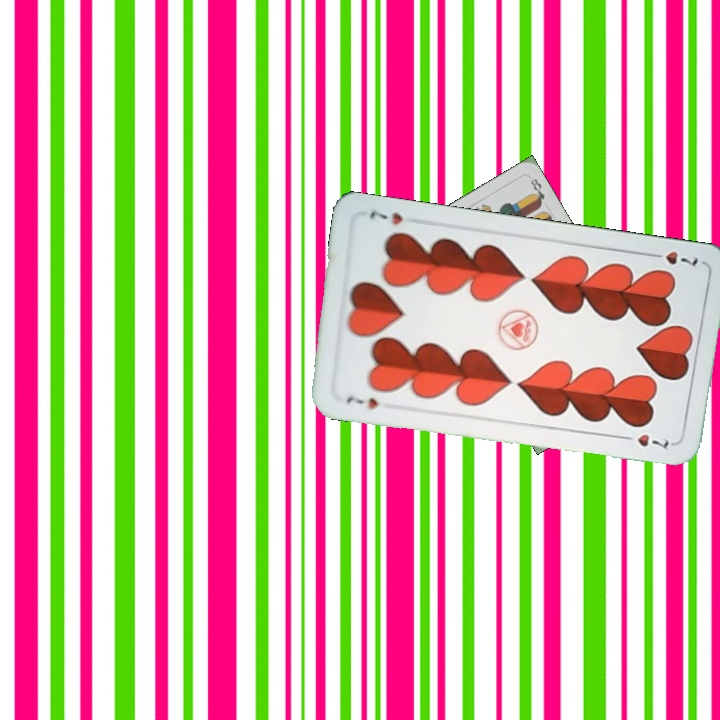H7: (645, 247, 701, 269), (342, 392, 381, 413)
